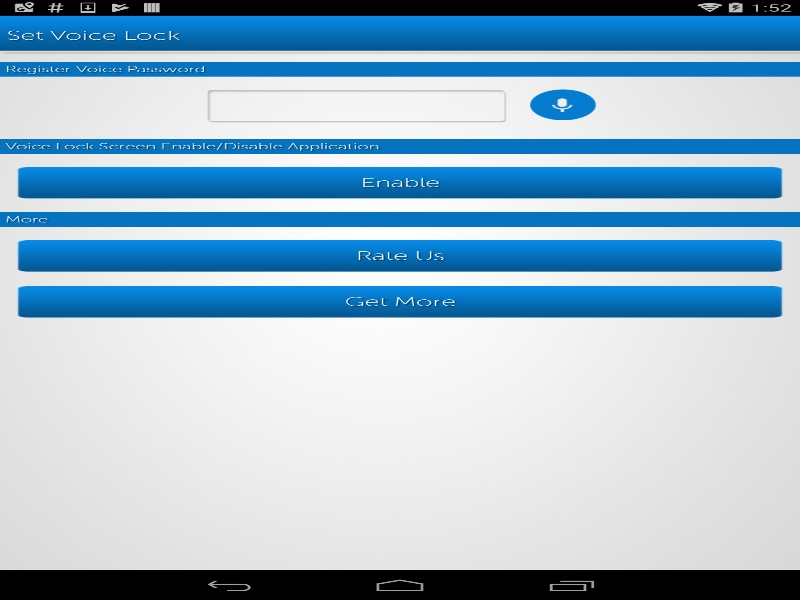Button: (13, 166, 786, 199), (13, 239, 786, 272), (13, 285, 786, 318)
Input: (203, 89, 509, 122)
